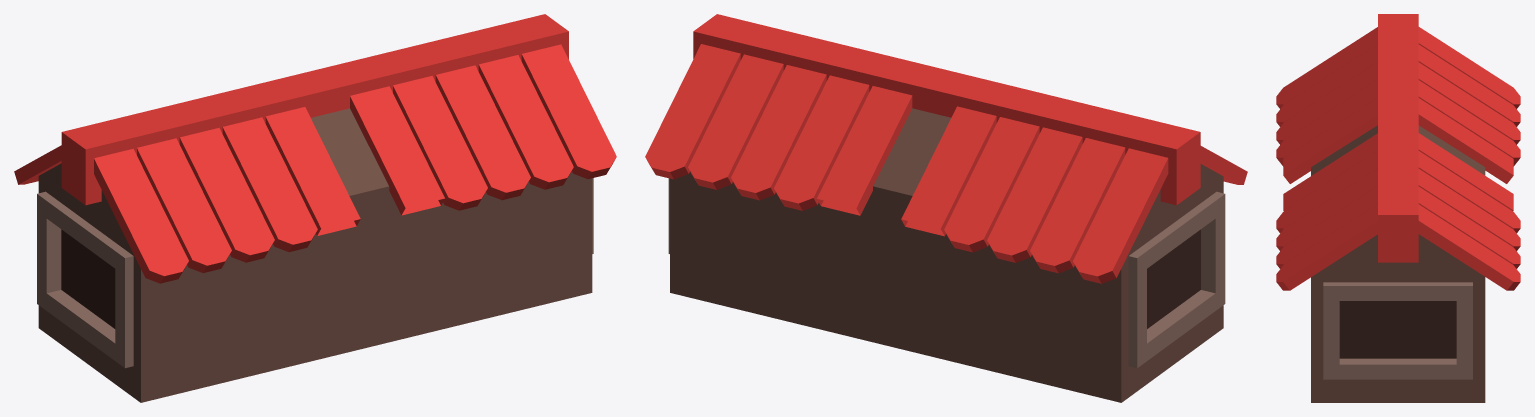
Rendered from Building_Small_Window_003.glb.
The picture shows the model from 3 angles, left to right: view 1: azimuth 30°, elevation 25°; view 2: azimuth 150°, elevation 25°; view 3: azimuth 270°, elevation 25°; orthographic projection. The views are drawn at different scales.
Visible parts, largest first — view 1: Building_Small_Window_003; view 2: Building_Small_Window_003; view 3: Building_Small_Window_003.
Part boxes in pixels (x1=…): Building_Small_Window_003: x1=14, y1=14, x2=616, y2=402; Building_Small_Window_003: x1=645, y1=14, x2=1247, y2=402; Building_Small_Window_003: x1=1276, y1=14, x2=1520, y2=402.
Size of the model in its own units: 5.89 by 2.66 by 3.03.
1 material, 1 textured.
